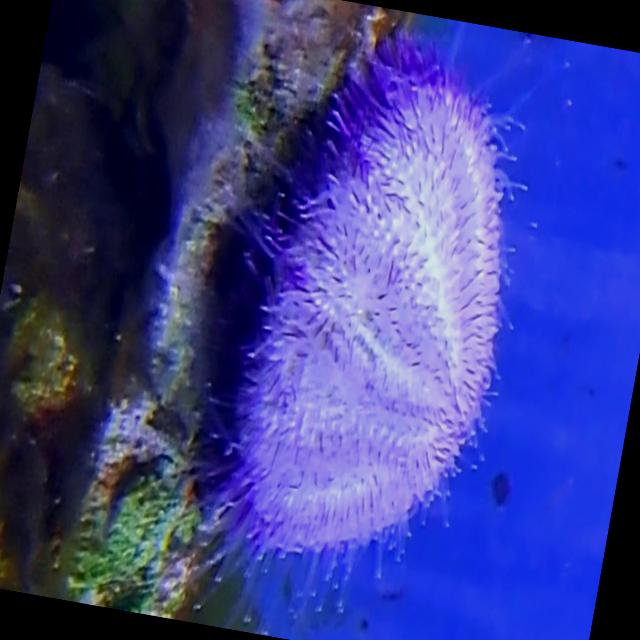Deniz Kestanesi: (178, 1, 546, 585)
